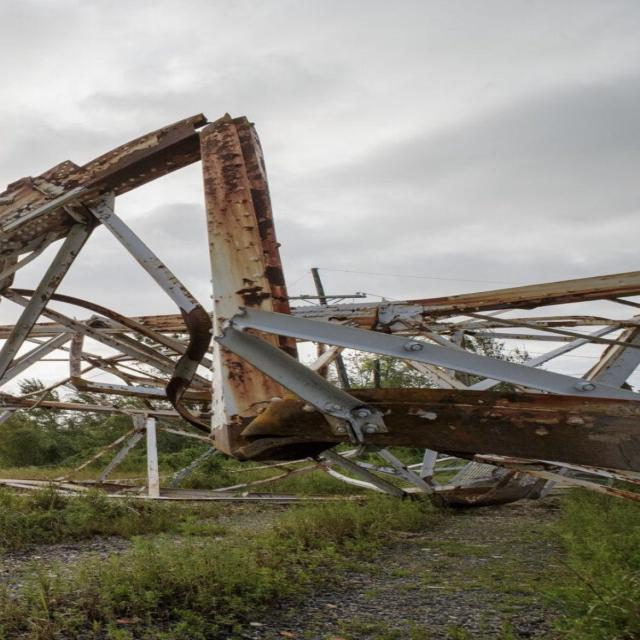damaged_tower: (177, 112, 333, 456), (2, 114, 190, 216)
